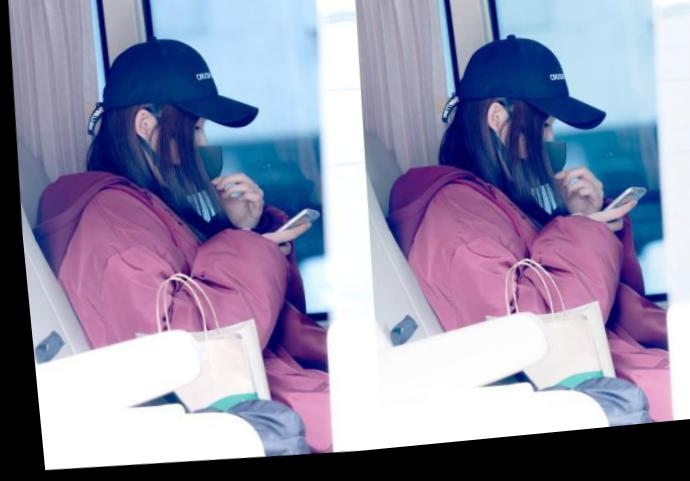WRONG: (161, 104, 218, 202), (511, 102, 568, 199)
